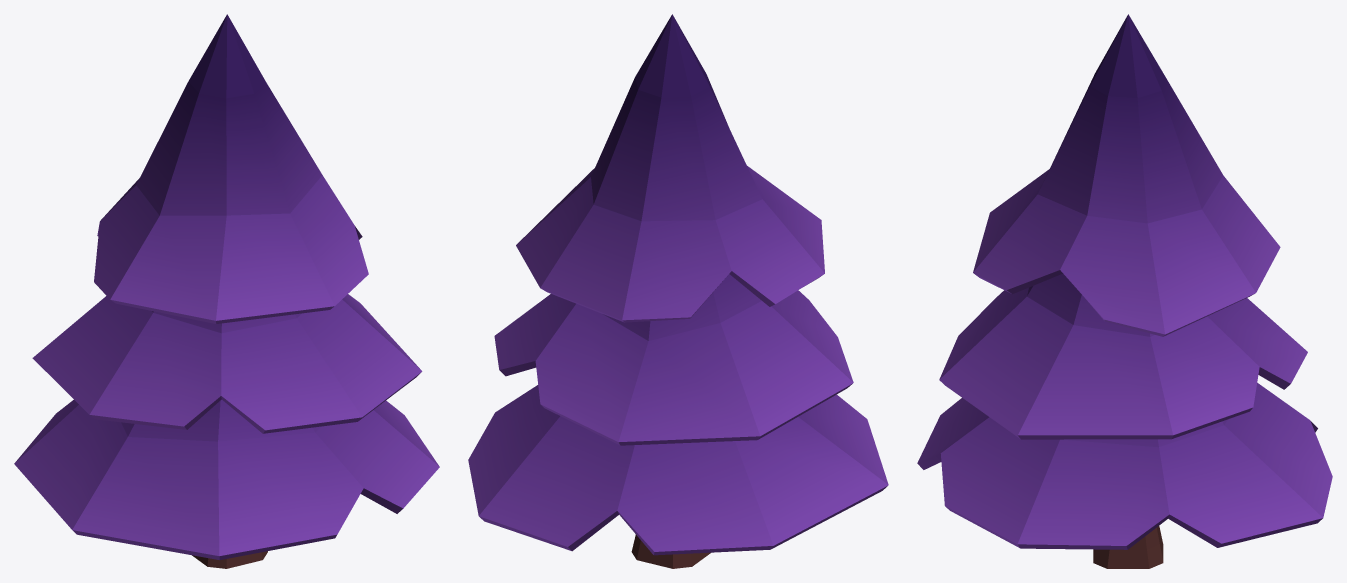
File: MagicPine1.fbx
The picture shows the model from 3 angles, left to right: view 1: azimuth 30°, elevation 25°; view 2: azimuth 150°, elevation 25°; view 3: azimuth 270°, elevation 25°; orthographic projection.
Visible parts, largest first — view 1: MagicPine1; view 2: MagicPine1; view 3: MagicPine1.
Part boxes in pixels (x1,y1,x2,y2): MagicPine1: (14,14,439,568); MagicPine1: (468,14,888,568); MagicPine1: (917,14,1332,568).
Size of the model in its own units: 432 by 613 by 428.
